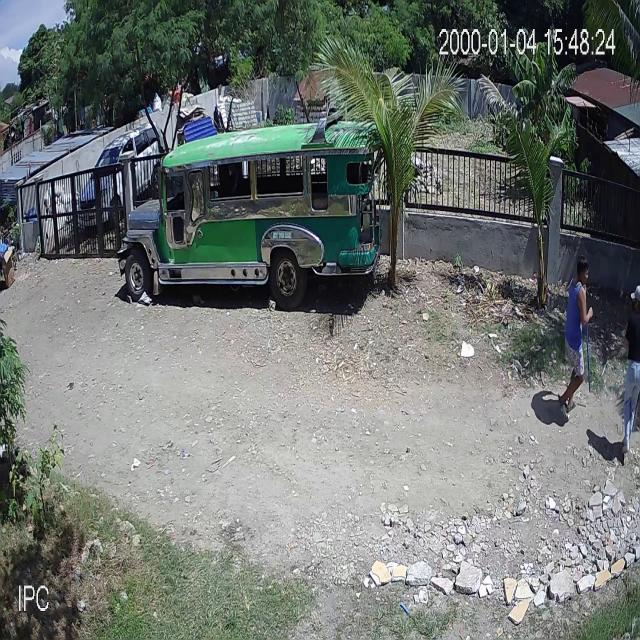running: (558, 254, 593, 421), (621, 286, 640, 452)
